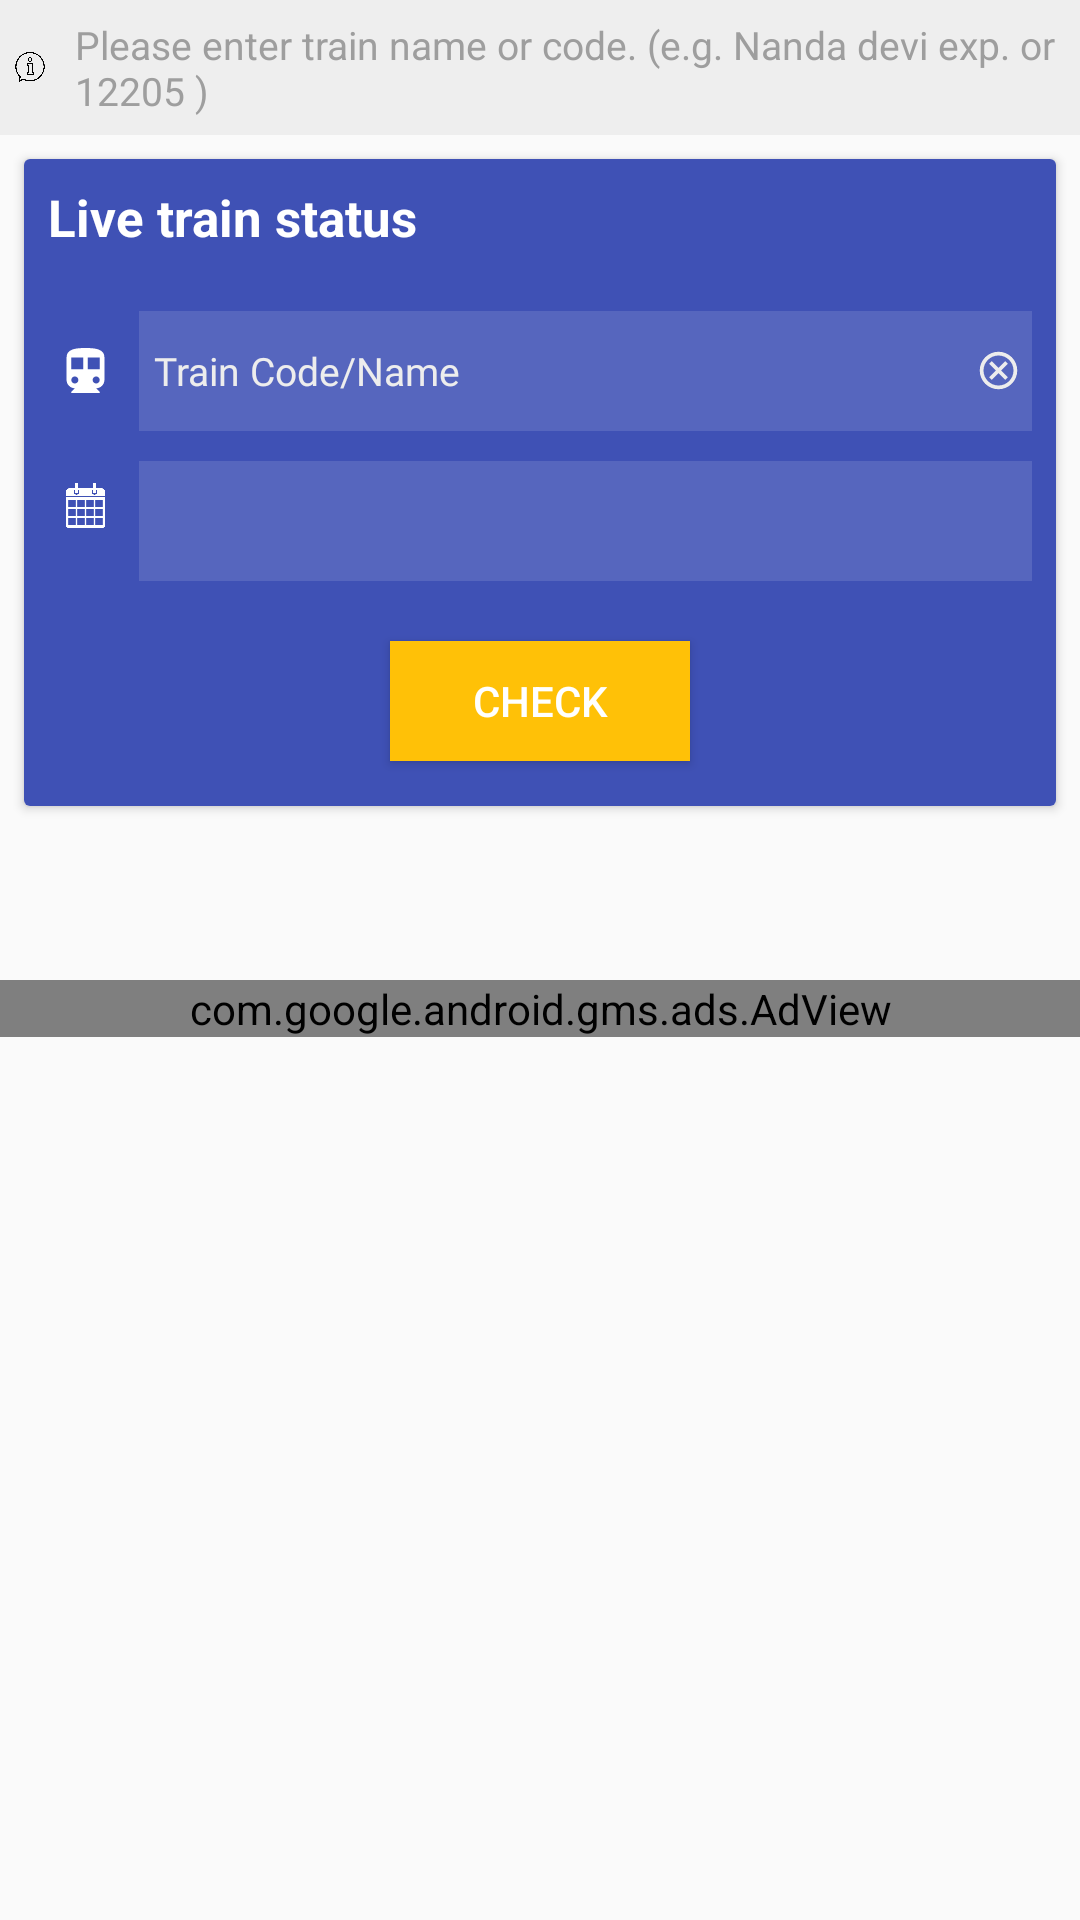

Icon bounding boxes for this 1080*1920 phone screenshot, format box(x1, y1, x2, y2):
calender: box(66, 483, 105, 528)
cancel: box(979, 351, 1018, 390)
help: box(15, 52, 45, 82)
